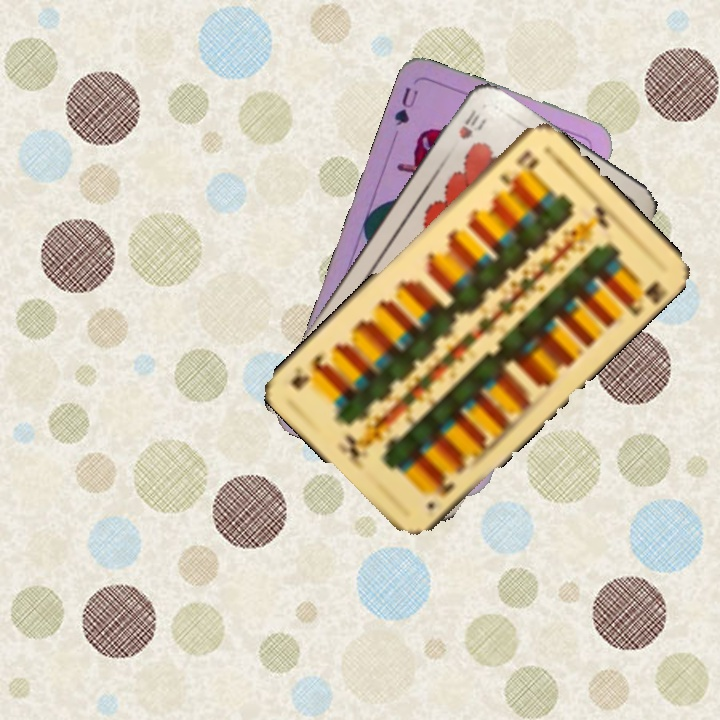E10: (496, 146, 538, 188), (423, 473, 458, 512)
GU: (390, 83, 421, 129)
H10: (454, 105, 488, 142)
